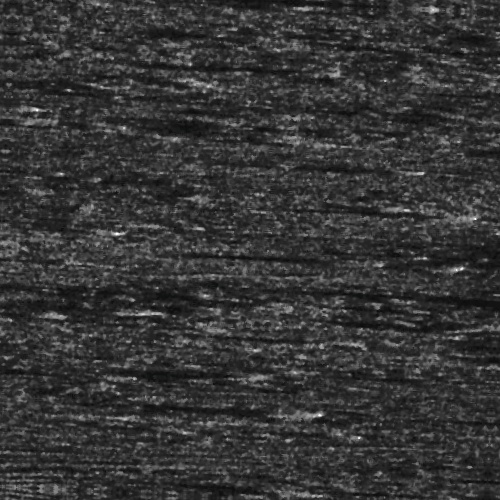object: (363, 196, 500, 209), (323, 251, 396, 258), (96, 313, 169, 320), (274, 403, 315, 412), (295, 65, 348, 70), (0, 115, 28, 122), (14, 125, 45, 130), (209, 374, 240, 377), (366, 0, 407, 1)
shadow: (237, 277, 500, 292), (273, 196, 436, 209), (115, 403, 294, 412), (193, 251, 359, 258), (0, 313, 132, 320), (151, 65, 321, 70), (44, 374, 224, 377), (458, 403, 500, 412), (158, 0, 387, 1), (0, 125, 29, 130)
